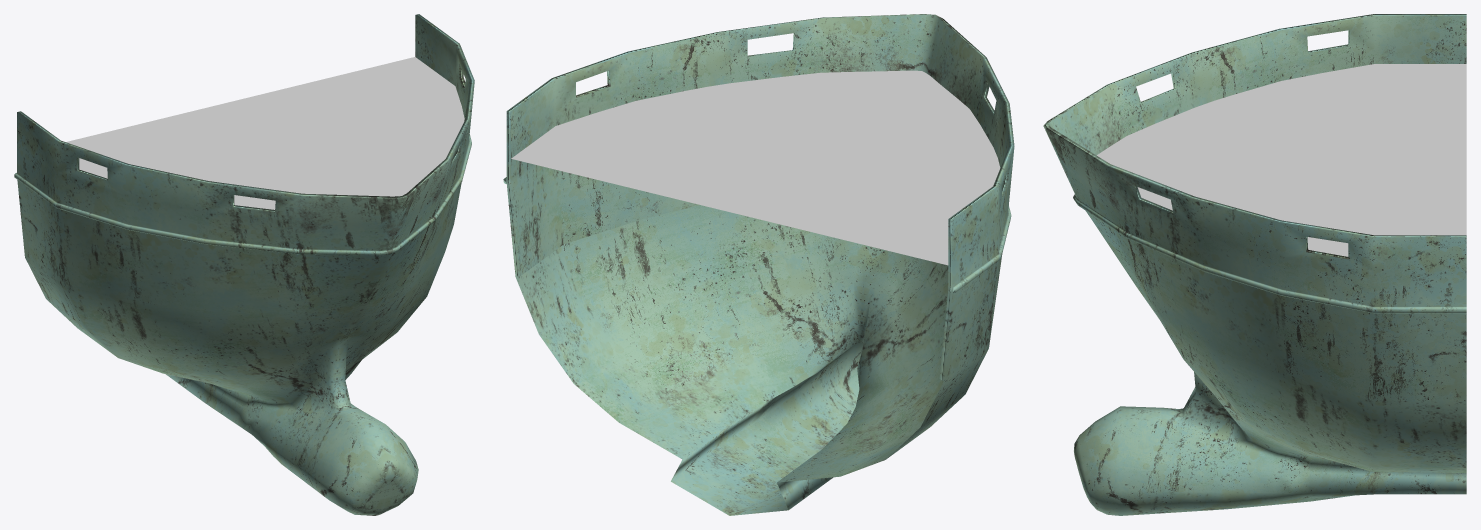
Rendered from boat_G_bow.fbx.
The picture shows the model from 3 angles, left to right: view 1: azimuth 30°, elevation 25°; view 2: azimuth 150°, elevation 25°; view 3: azimuth 270°, elevation 25°; orthographic projection. The views are drawn at different scales.
Parts seen in each view (by area): view 1: boat_G_bow; view 2: boat_G_bow; view 3: boat_G_bow.
Boxes of the visible parts, x1,y1,x2,y2 form: boat_G_bow: (14,14,474,515); boat_G_bow: (503,14,1014,515); boat_G_bow: (1043,14,1466,515).
Size of the model in its own units: 1014 by 811 by 800.
